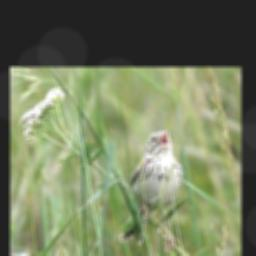Sparrow: (119, 129, 185, 248)
